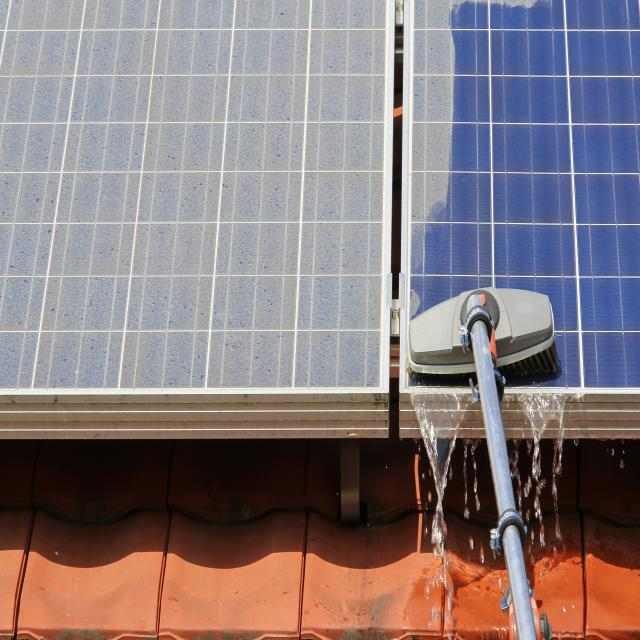clean-solar-panel: (411, 4, 640, 390)
